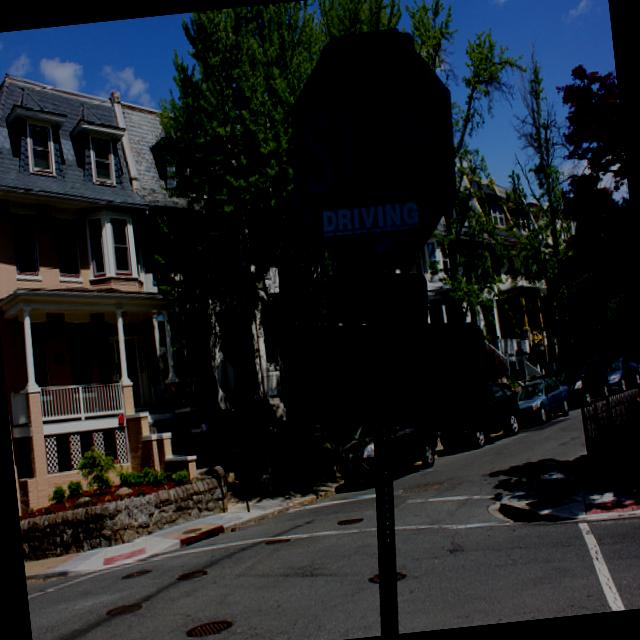Vehicle: (334, 416, 444, 492), (435, 381, 525, 454), (515, 375, 573, 425), (556, 358, 610, 409), (602, 355, 640, 393), (631, 352, 640, 380)
